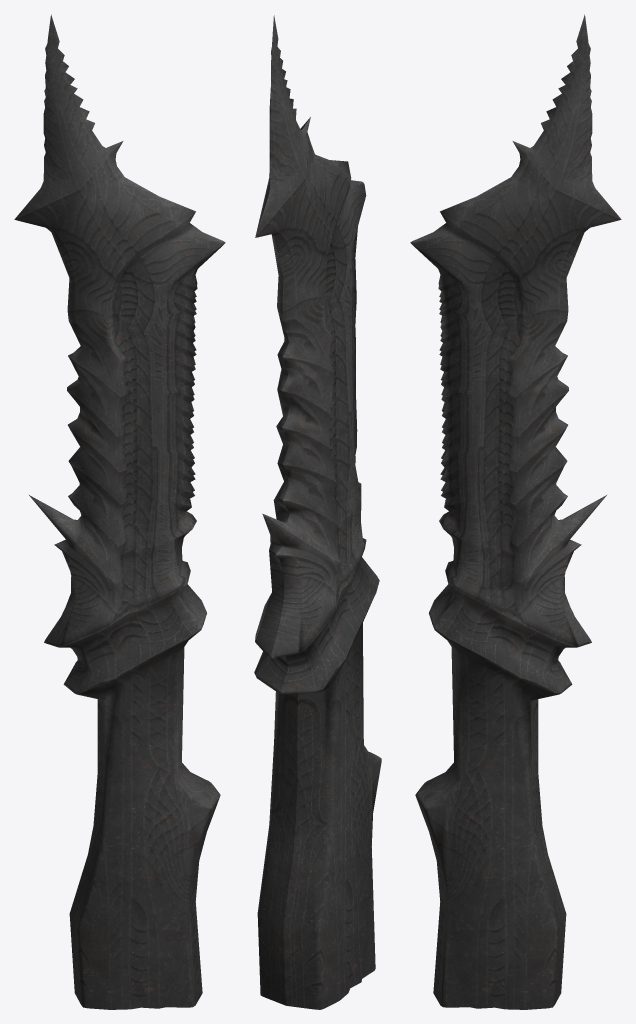
Rendered from bg_rad_kamen_pillar01_sm_cjy.obj.
The picture shows the model from 3 angles, left to right: view 1: azimuth 90°, elevation 25°; view 2: azimuth 150°, elevation 25°; view 3: azimuth 270°, elevation 25°; orthographic projection. The views are drawn at different scales.
Parts seen in each view (by area): view 1: bg_rad_kamen_pillar01_sm_cjy_0; view 2: bg_rad_kamen_pillar01_sm_cjy_0; view 3: bg_rad_kamen_pillar01_sm_cjy_0.
Boxes of the visible parts, <box> form: bg_rad_kamen_pillar01_sm_cjy_0: <box>14,14,225,1009</box>; bg_rad_kamen_pillar01_sm_cjy_0: <box>254,15,381,1009</box>; bg_rad_kamen_pillar01_sm_cjy_0: <box>410,14,621,1009</box>.
Size of the model in its own units: 0.4534 by 5.6 by 1.1.
Materials: 1 (1 with a texture image).
